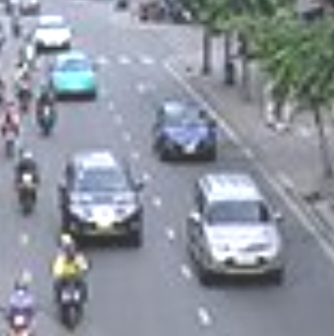car: (188, 170, 287, 284), (60, 149, 144, 246), (152, 98, 221, 164), (51, 54, 99, 99), (34, 14, 73, 51)
